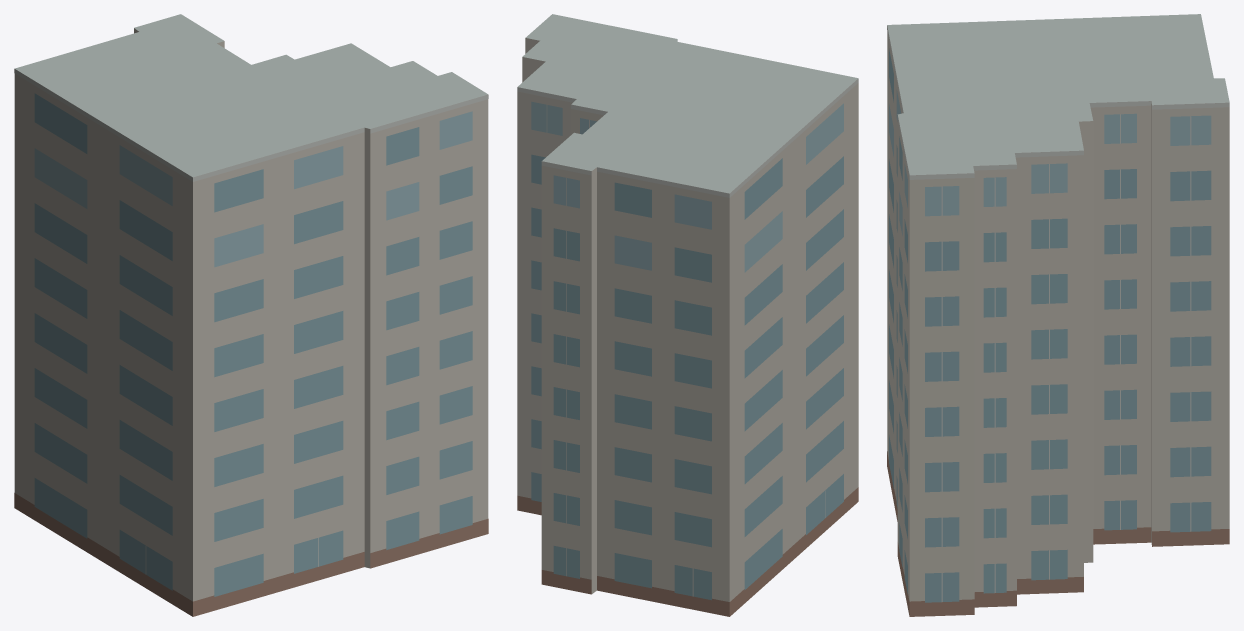
The model's file is survey-upis-32758979.glb.
The picture shows the model from 3 angles, left to right: view 1: azimuth 30°, elevation 25°; view 2: azimuth 150°, elevation 25°; view 3: azimuth 270°, elevation 25°; orthographic projection. The views are drawn at different scales.
Parts seen in each view (by area): view 1: survey-upis-32758979.tmp; view 2: survey-upis-32758979.tmp; view 3: survey-upis-32758979.tmp.
Part boxes in pixels (x1=…): survey-upis-32758979.tmp: x1=14, y1=14, x2=488, y2=616; survey-upis-32758979.tmp: x1=517, y1=14, x2=858, y2=616; survey-upis-32758979.tmp: x1=887, y1=14, x2=1229, y2=616.
Size of the model in its own units: 18.27 by 23.3 by 16.39.
